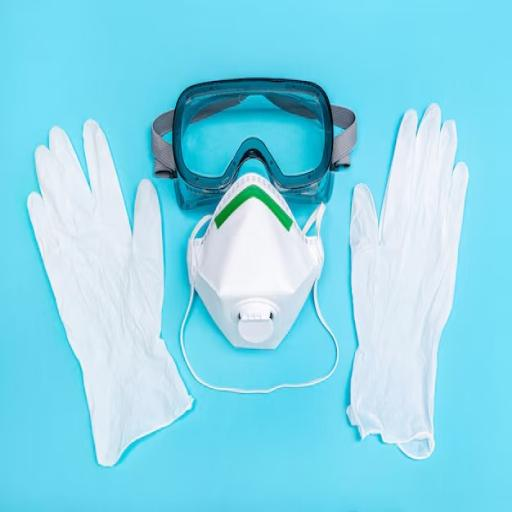mask: (184, 182, 336, 368)
